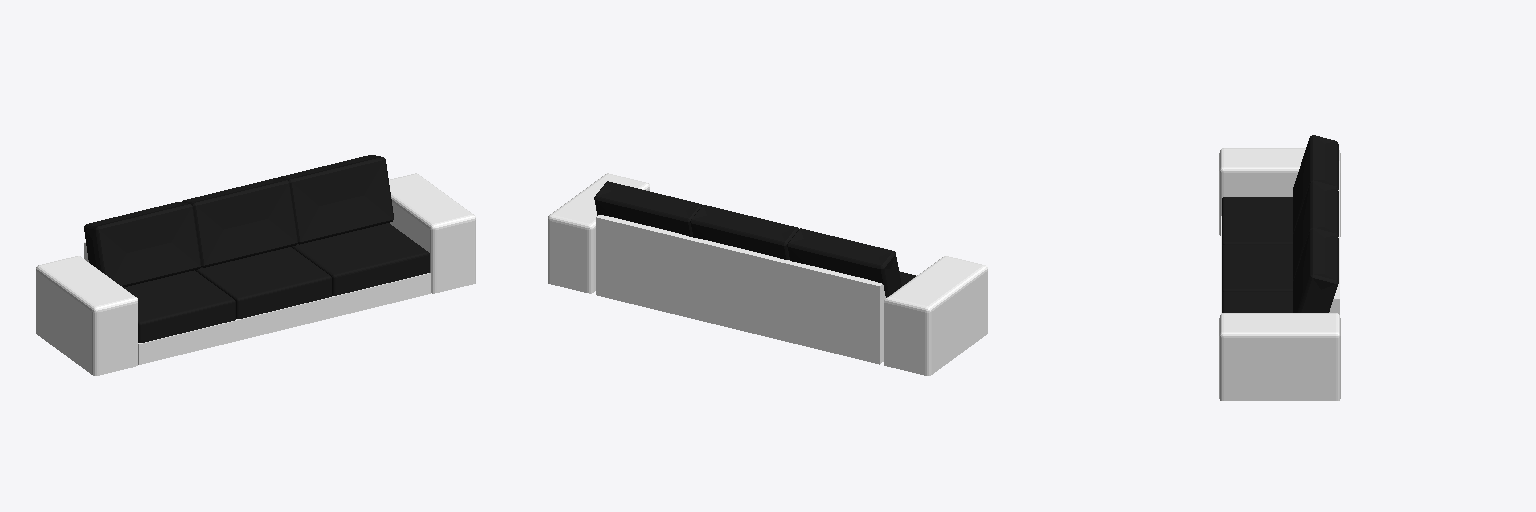
The model's file is 3sofa.obj.
3 views of the same model, side by side, from view 1: azimuth 30°, elevation 25°; view 2: azimuth 150°, elevation 25°; view 3: azimuth 270°, elevation 25° (orthographic).
Visible parts, largest first — view 1: Box004, Box012, Box011, Box010, Box003, Box001, Box007, Box006, Box005; view 2: Box002, Box004, Box003, Box012, Box011, Box010; view 3: Box003, Box004, Box005, Box006, Box010, Box012, Box011, Box007.
Part boxes in pixels (x1,y1,x2,y2): Box004: (36, 256, 137, 375); Box012: (84, 202, 201, 287); Box011: (182, 178, 297, 267); Box010: (278, 155, 393, 244); Box003: (389, 173, 475, 293); Box001: (138, 273, 430, 364); Box007: (292, 223, 429, 295); Box006: (195, 247, 331, 318); Box005: (124, 270, 235, 342); Box002: (596, 215, 885, 364); Box004: (884, 256, 987, 375); Box003: (548, 173, 649, 293); Box012: (787, 228, 901, 297); Box011: (690, 205, 798, 259); Box010: (594, 181, 701, 236); Box003: (1219, 313, 1340, 400); Box004: (1219, 148, 1340, 236); Box005: (1222, 197, 1292, 245); Box006: (1222, 244, 1292, 292); Box010: (1293, 229, 1338, 312); Box012: (1293, 135, 1338, 233); Box011: (1293, 182, 1338, 280); Box007: (1222, 291, 1292, 312).
Bounding box in the file's own units: 45.18 × 11.68 × 12.35.